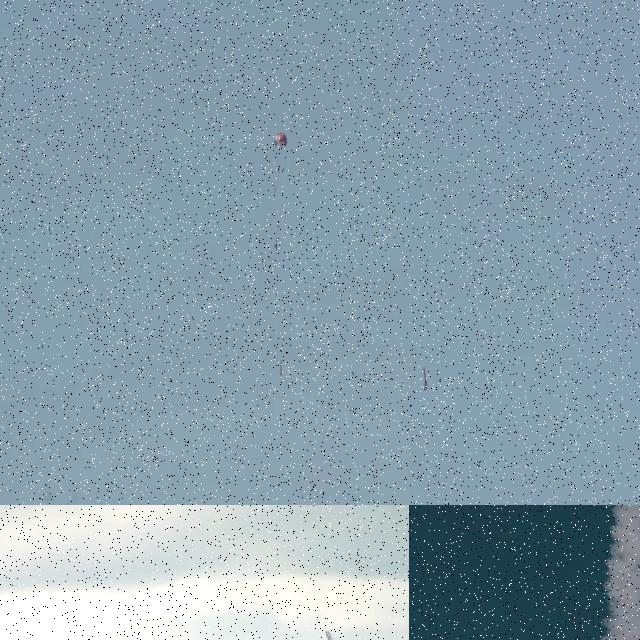Rocket: (423, 367, 428, 390), (280, 360, 282, 376)
